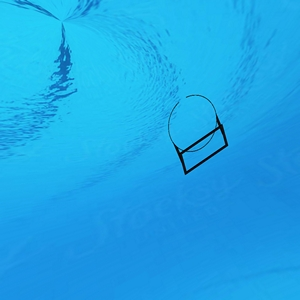circle: (168, 94, 230, 178)
